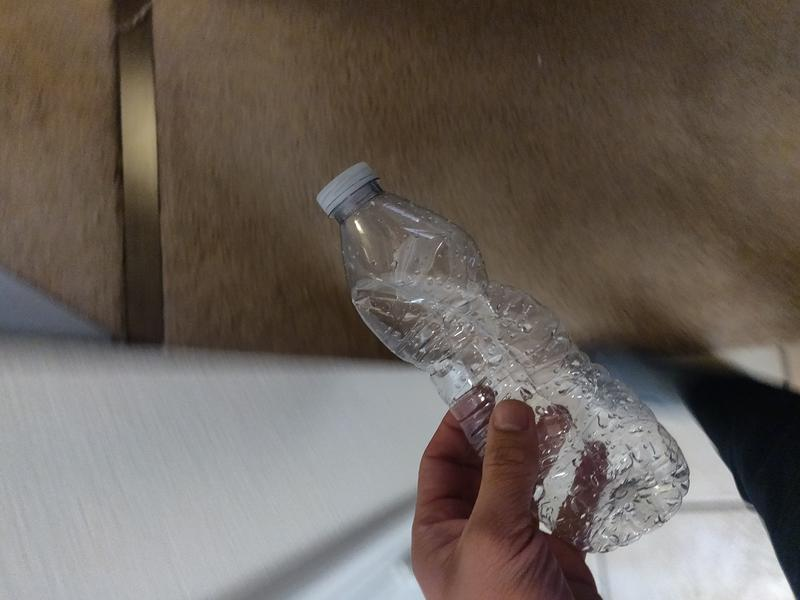bottle: (312, 159, 693, 557)
